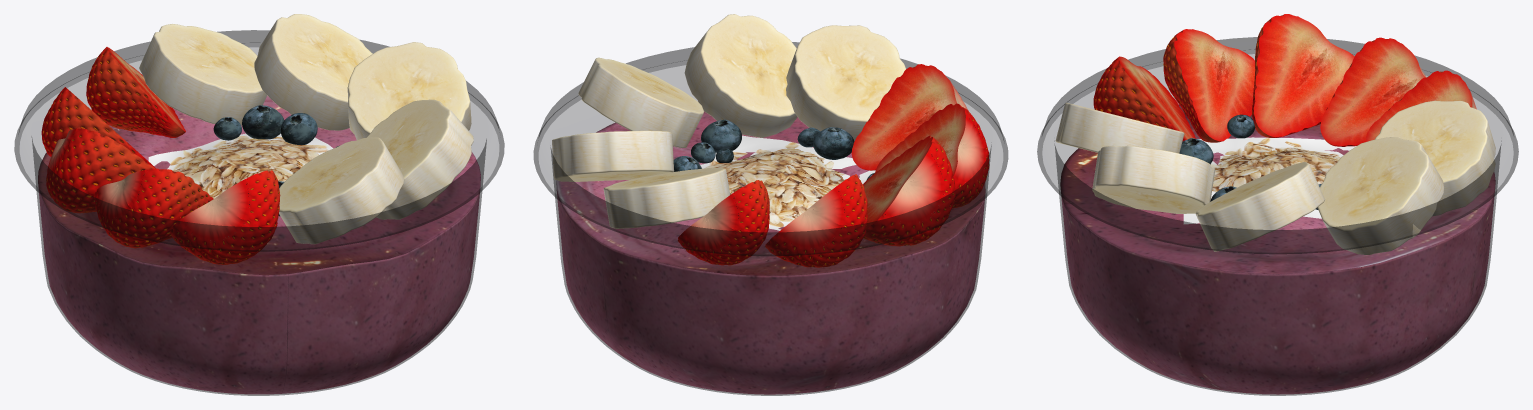
File: acai_bowl.glb
3 views of the same model, side by side, from view 1: azimuth 30°, elevation 25°; view 2: azimuth 150°, elevation 25°; view 3: azimuth 270°, elevation 25° (orthographic). The views are drawn at different scales.
Parts seen in each view (by area): view 1: Object_3, Object_2, Object_7, Object_5, Object_6, Object_4, Object_8; view 2: Object_3, Object_2, Object_7, Object_5, Object_6, Object_4, Object_8; view 3: Object_3, Object_2, Object_7, Object_5, Object_6, Object_4, Object_8.
Boxes of the visible parts, x1,y1,x2,y2 form: Object_3: (14,30,504,395); Object_2: (38,95,480,394); Object_7: (139,14,473,244); Object_5: (41,47,280,264); Object_6: (42,54,213,248); Object_4: (148,133,333,198); Object_8: (213,105,339,216); Object_3: (533,42,1008,395); Object_2: (556,111,985,394); Object_7: (552,14,905,228); Object_5: (678,64,988,267); Object_6: (678,103,989,267); Object_4: (700,135,875,230); Object_8: (673,119,875,180); Object_3: (1037,37,1518,395); Object_2: (1060,105,1495,394); Object_7: (1055,100,1495,254); Object_5: (1093,14,1472,142); Object_6: (1163,29,1476,146); Object_4: (1183,137,1356,224); Object_8: (1179,114,1321,209).
Size of the model in its own units: 2.88 by 1.63 by 2.88.
Materials: 6 (5 with a texture image).
